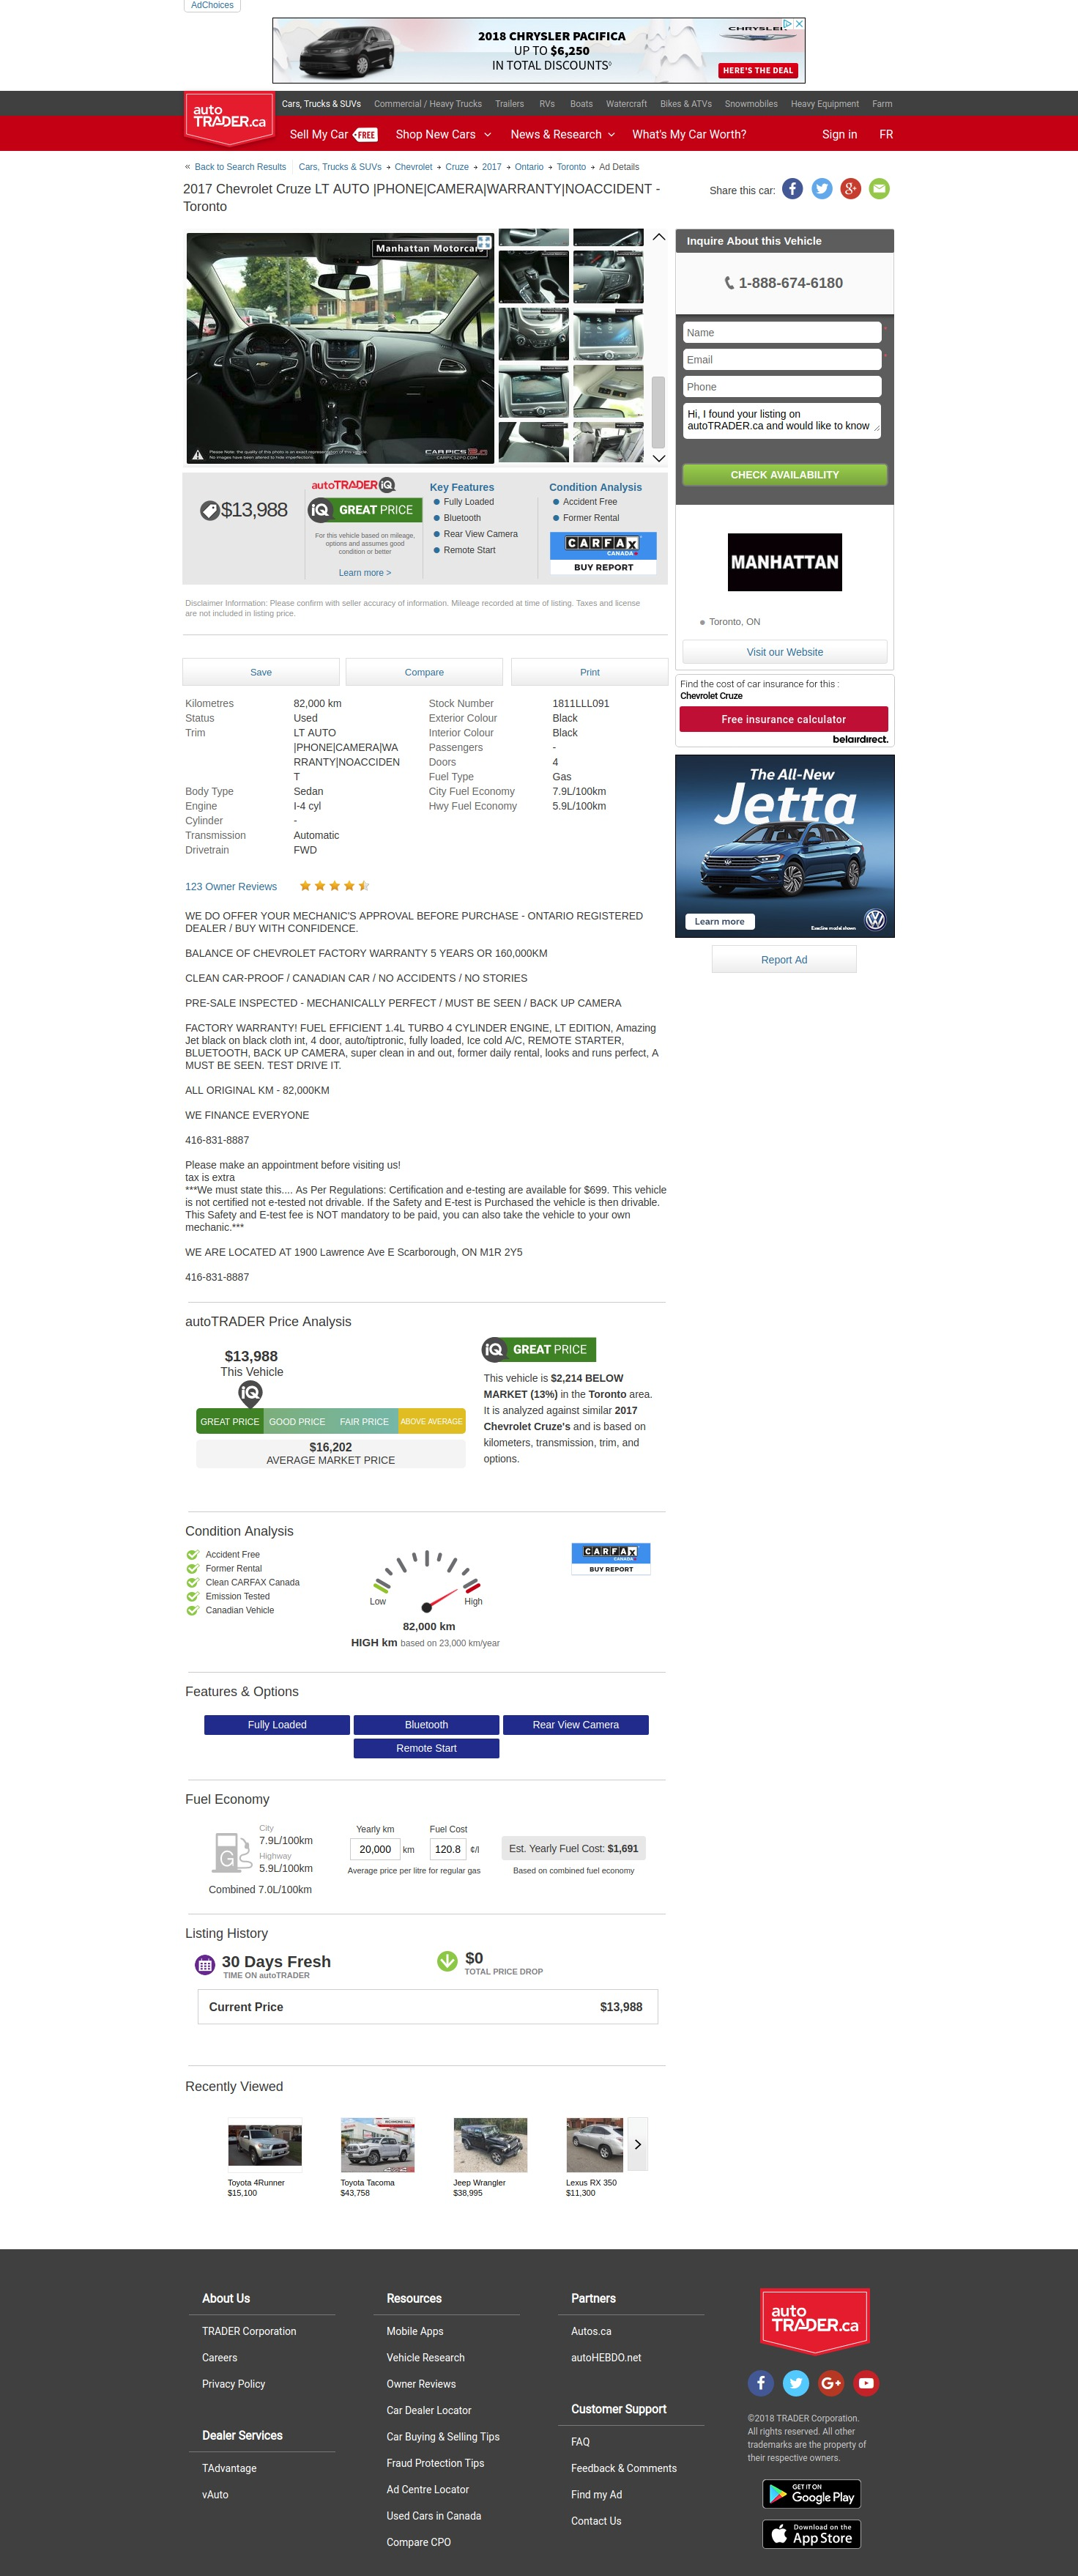car: (652, 453, 667, 465)
